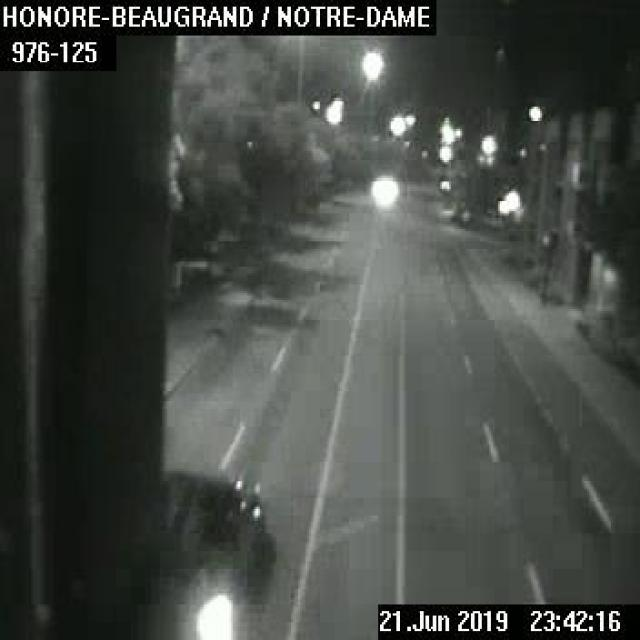vehicle: (161, 468, 270, 638)
